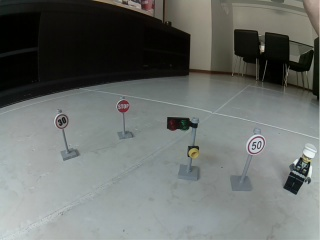Person: (284, 142, 317, 196)
Red Traffic Light: (166, 116, 201, 182)
Speed Limit 30: (53, 114, 70, 131)
Speed Limit 50: (245, 135, 266, 156)
Stop Sign: (116, 99, 130, 113)
